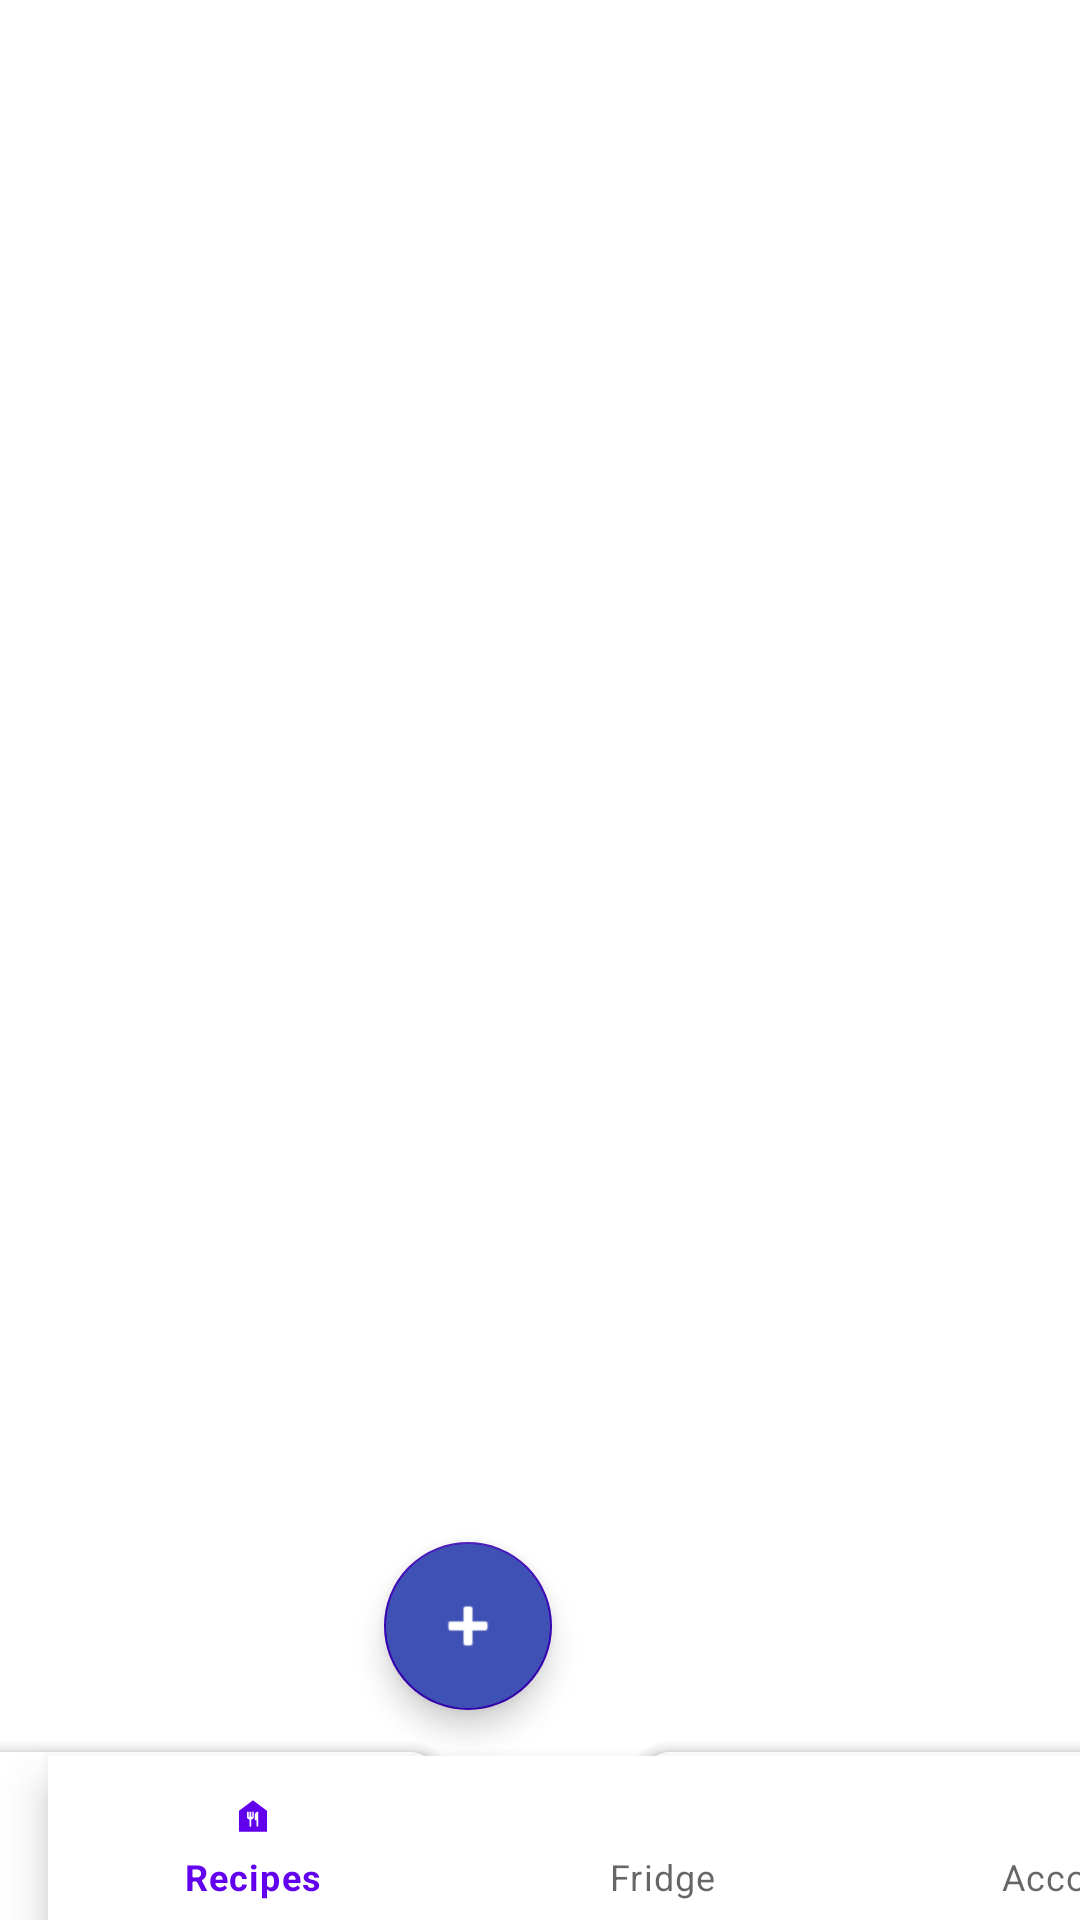

Screen size 1080 × 1920. Icon name, then its box in pixels as region(x1, y1, x2, y2):
Add item button: region(384, 1572, 552, 1724)
